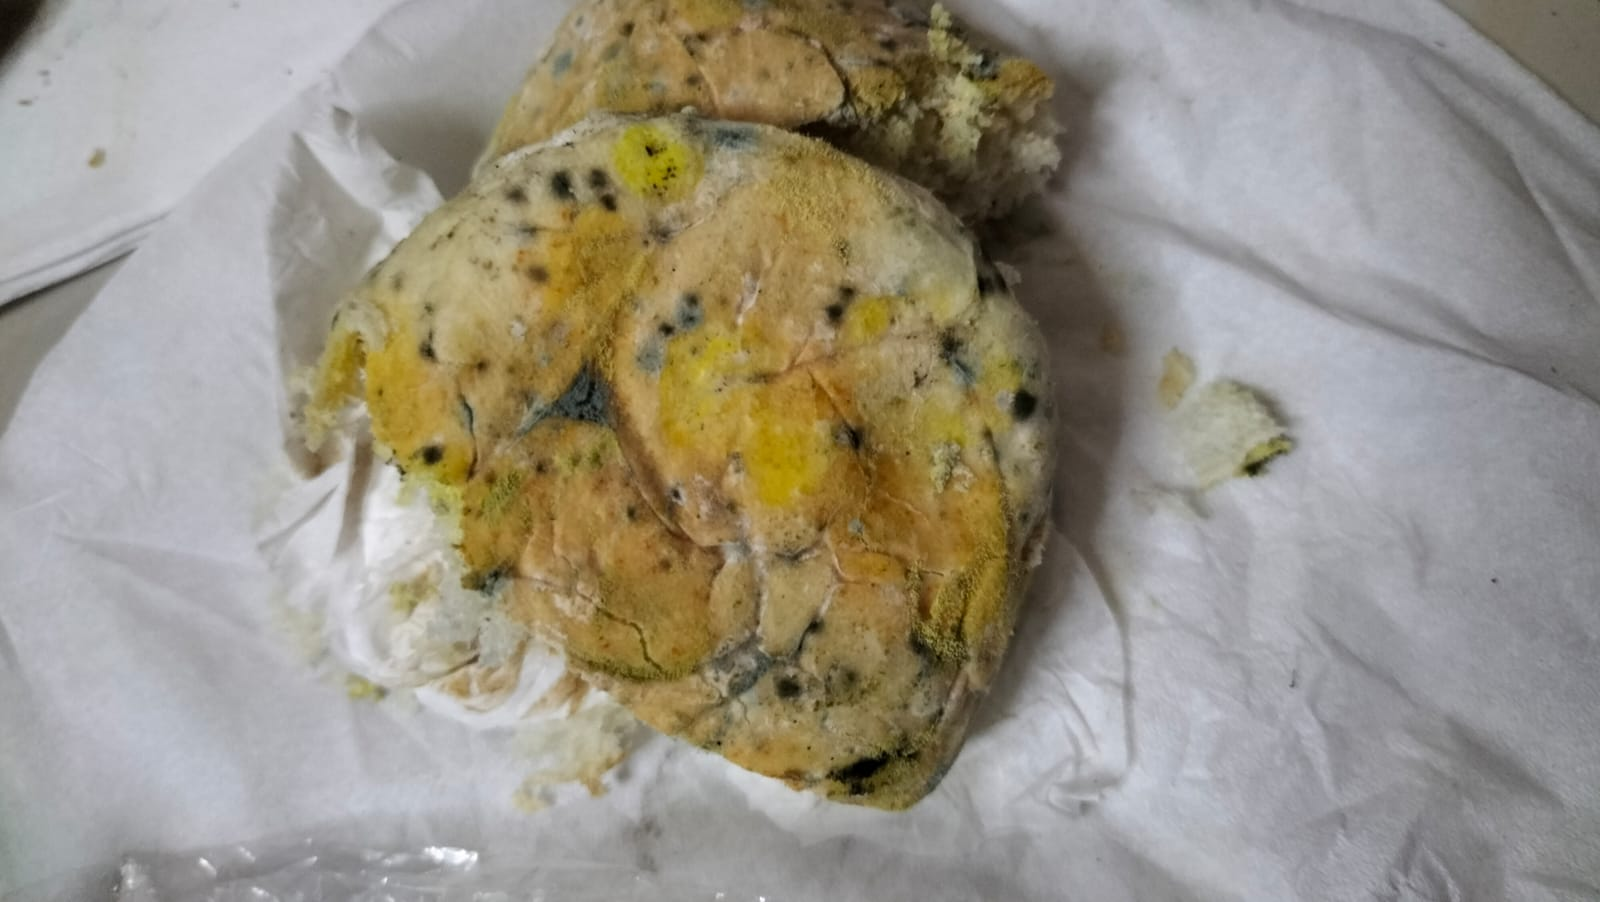mold_bread: (819, 733, 922, 808), (537, 360, 624, 447), (638, 278, 713, 369), (547, 164, 629, 215), (759, 662, 822, 725), (930, 320, 978, 391), (701, 116, 773, 162), (644, 133, 684, 207), (464, 554, 524, 601), (814, 280, 866, 333), (960, 45, 1008, 100), (831, 413, 870, 464), (1003, 383, 1038, 428), (547, 41, 581, 83), (412, 438, 451, 471), (415, 330, 443, 366), (522, 261, 552, 289), (799, 613, 830, 637), (513, 222, 543, 244), (614, 18, 642, 41), (503, 180, 527, 203)
